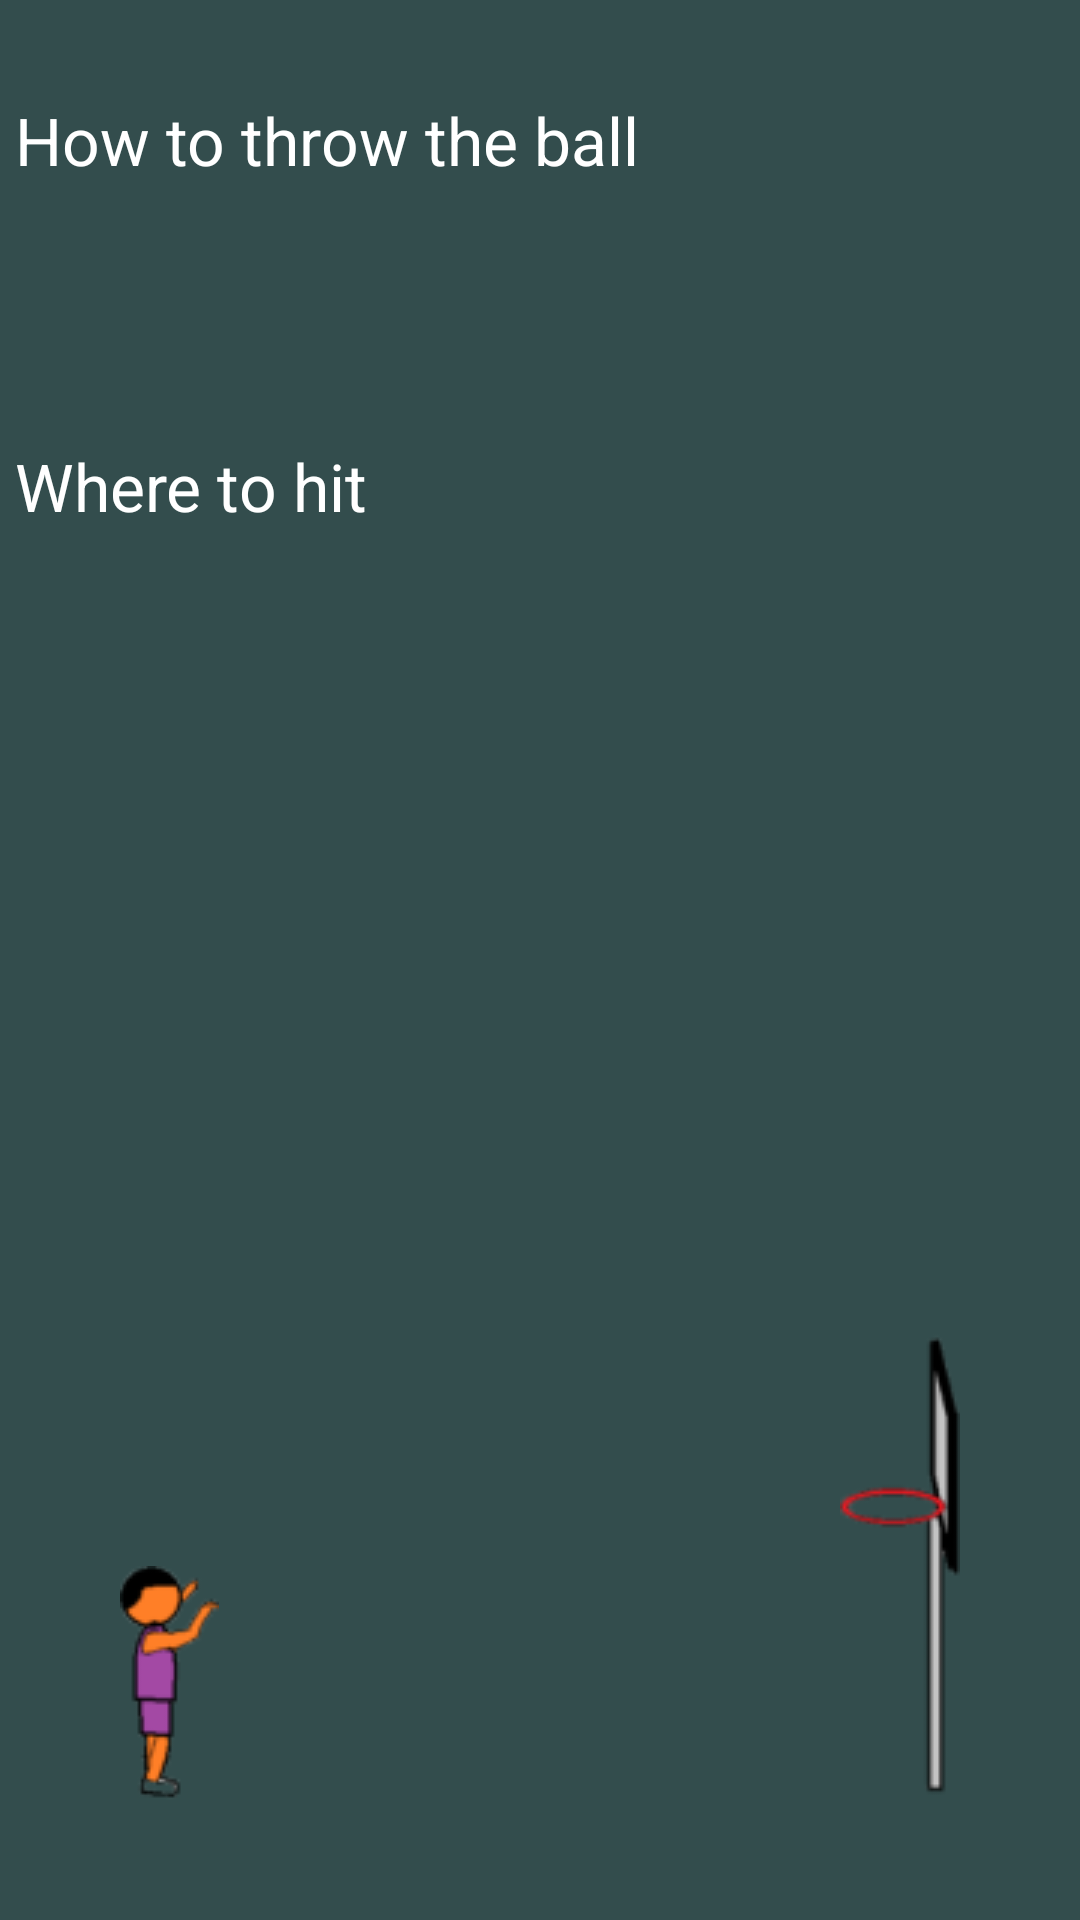

Icons on this 1080 x 1920 Android screen, each with the point to tap as (x=x, y=y):
player: (x=169, y=1681)
